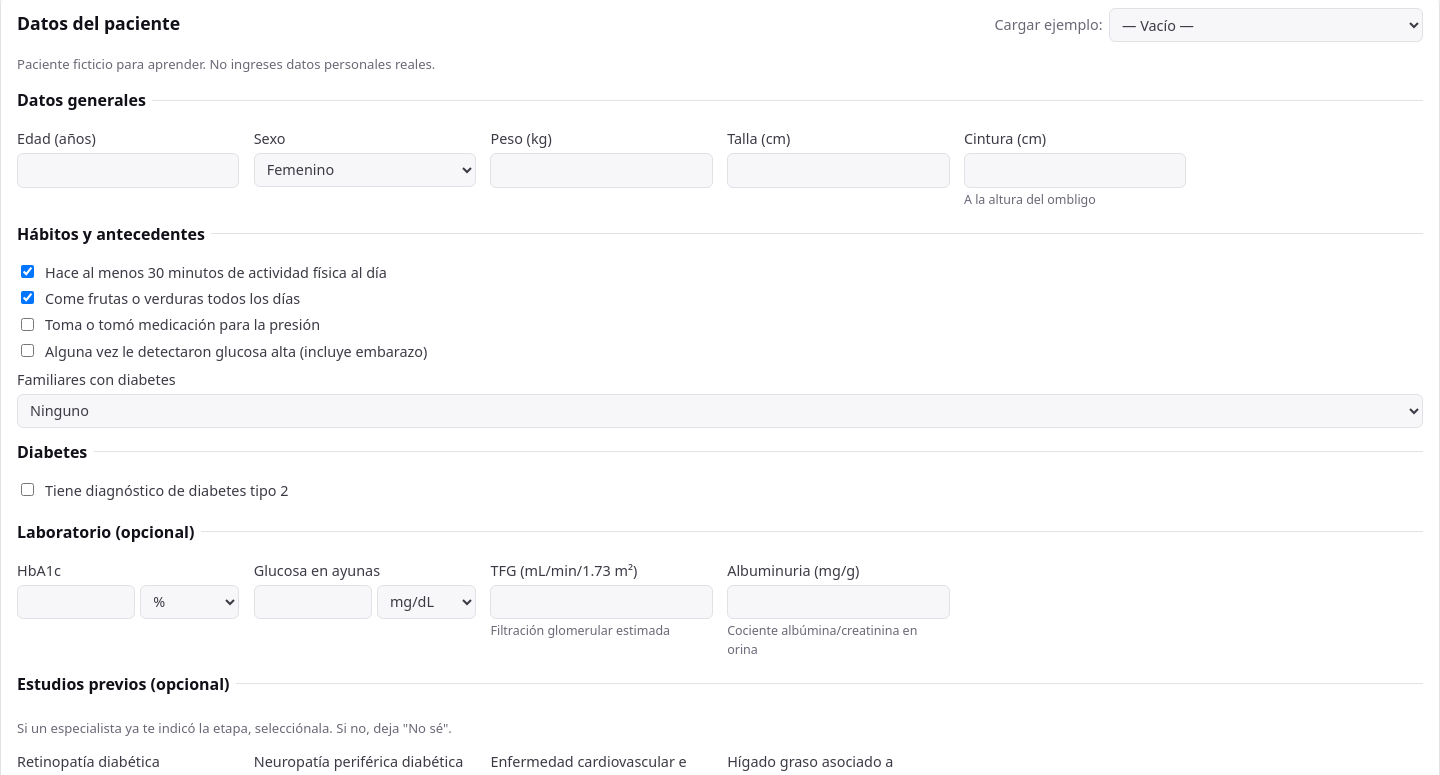
Test: formulario y resultados › F3-15: con diabetes no se muestra el FINDRISC
Type "50" into the field labelled "Edad (años)".
click(128, 170); type("50")  # box 17,153 -> 239,188
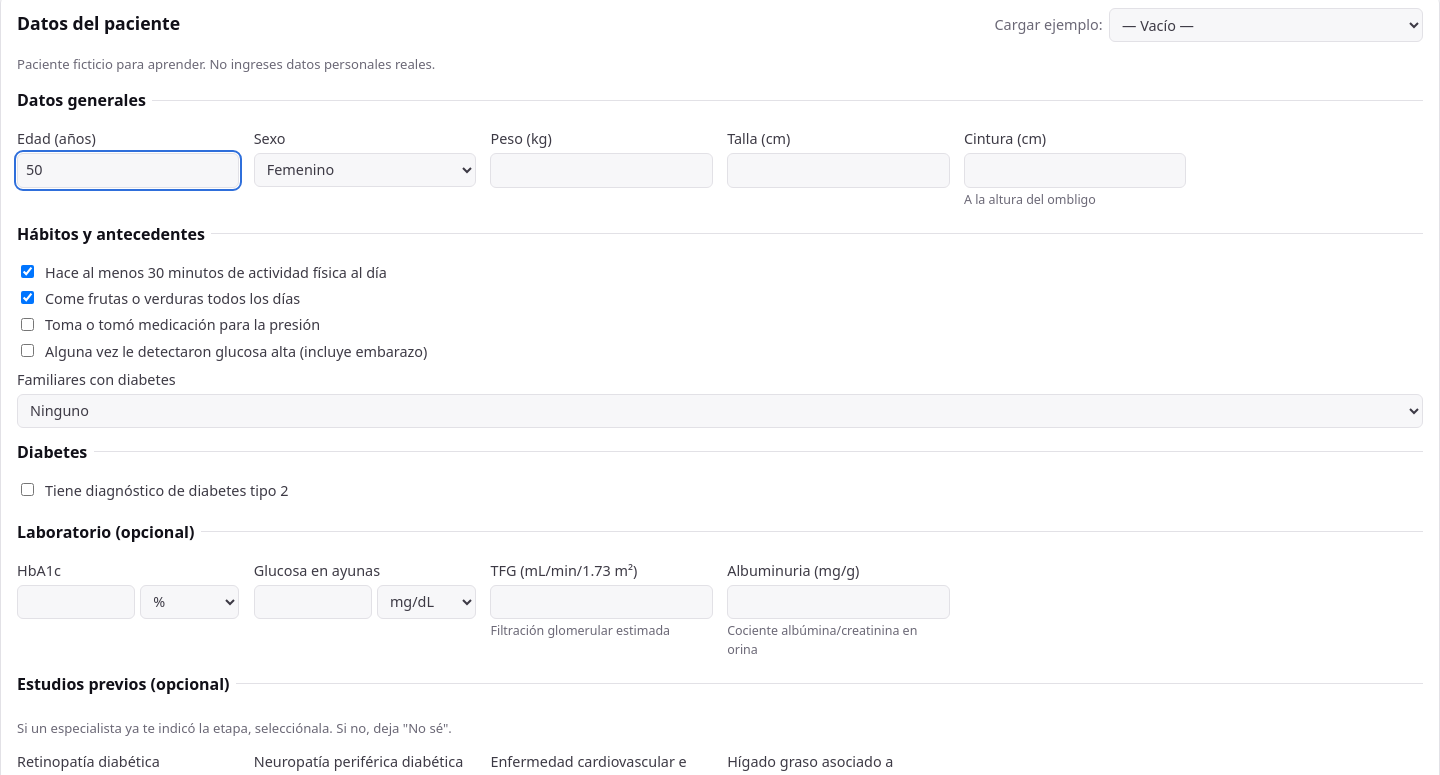
Type "70" into the field labelled "Peso (kg)".
click(602, 170); type("70")  # box 490,153 -> 713,188
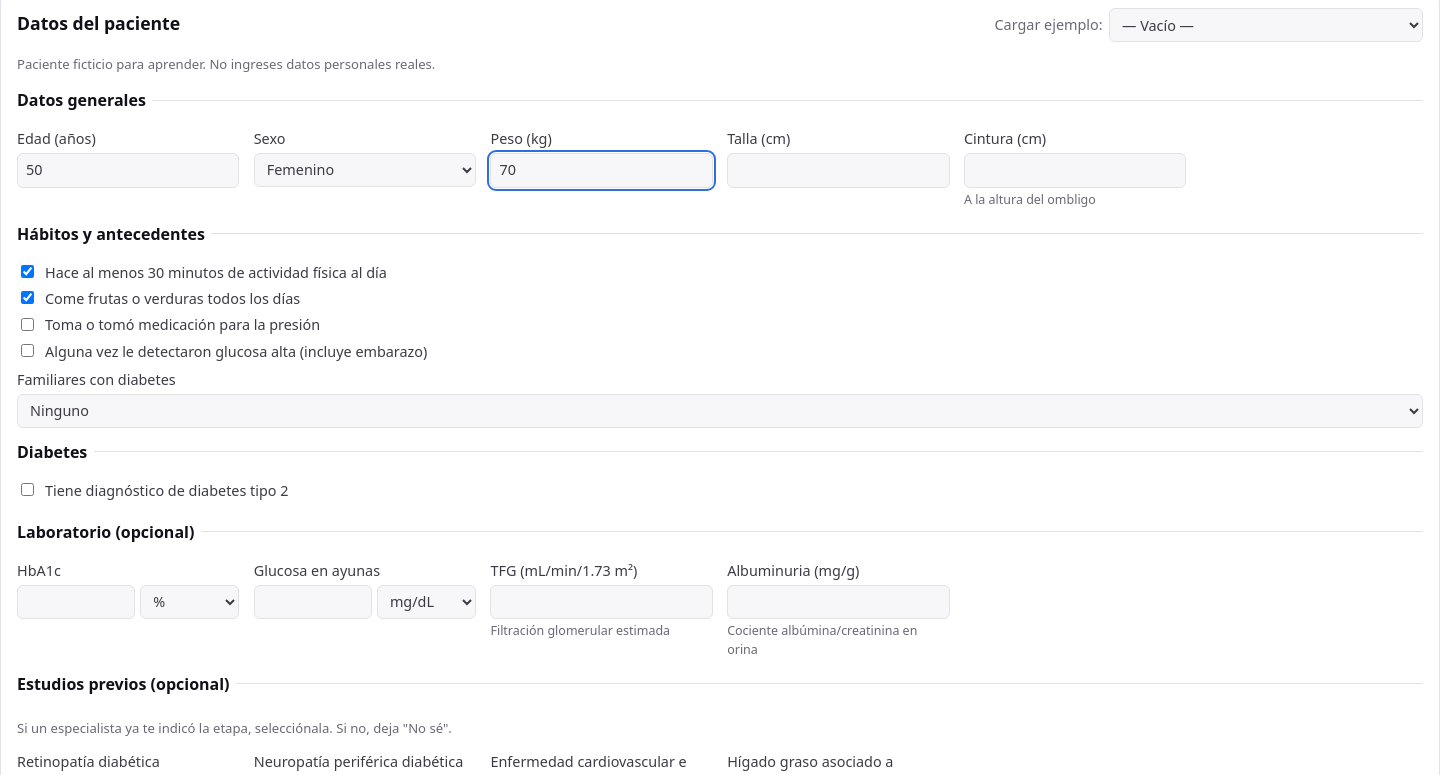
Type "170" into the field labelled "Talla (cm)".
click(838, 170); type("170")  # box 727,153 -> 950,188
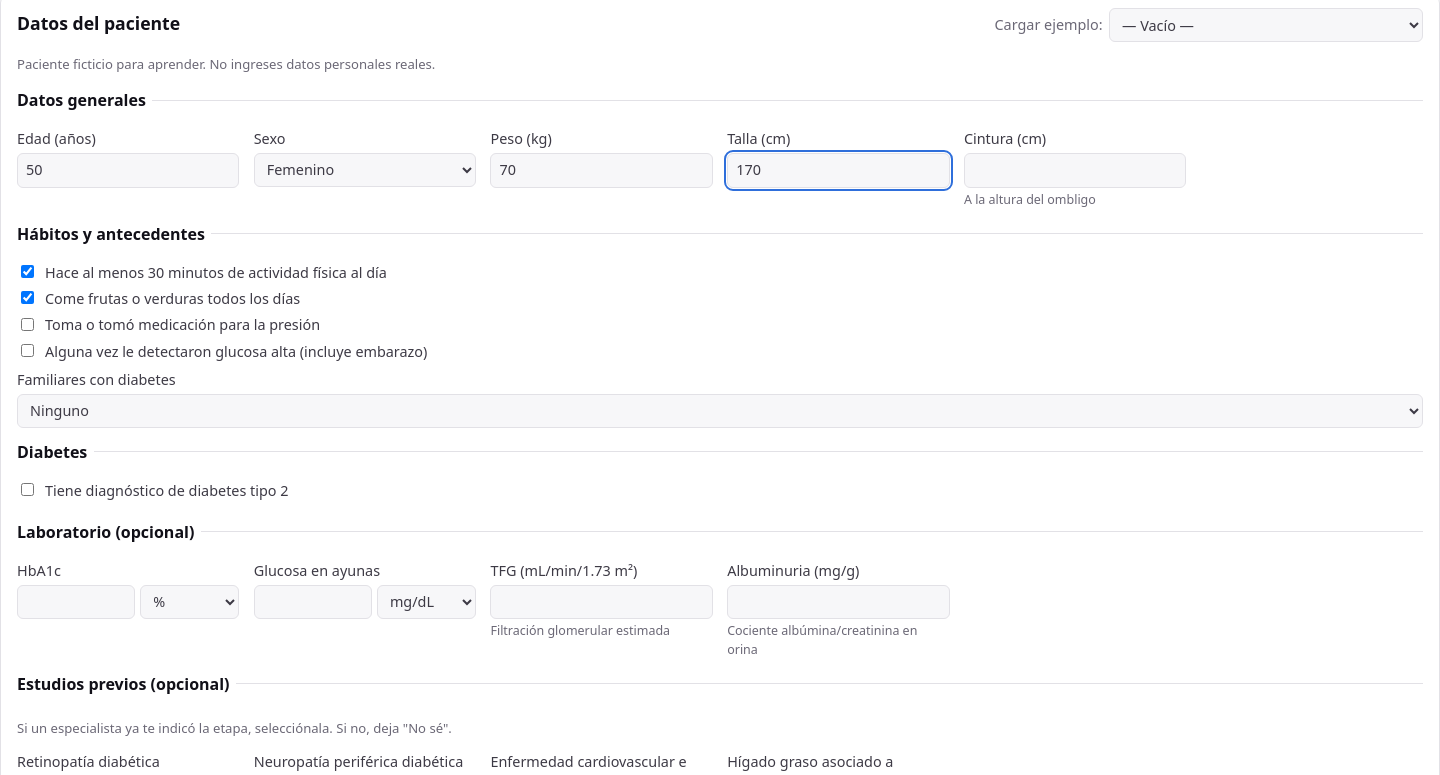
Type "78" into the field labelled "Cintura (cm)".
click(1075, 170); type("78")  # box 964,153 -> 1186,188
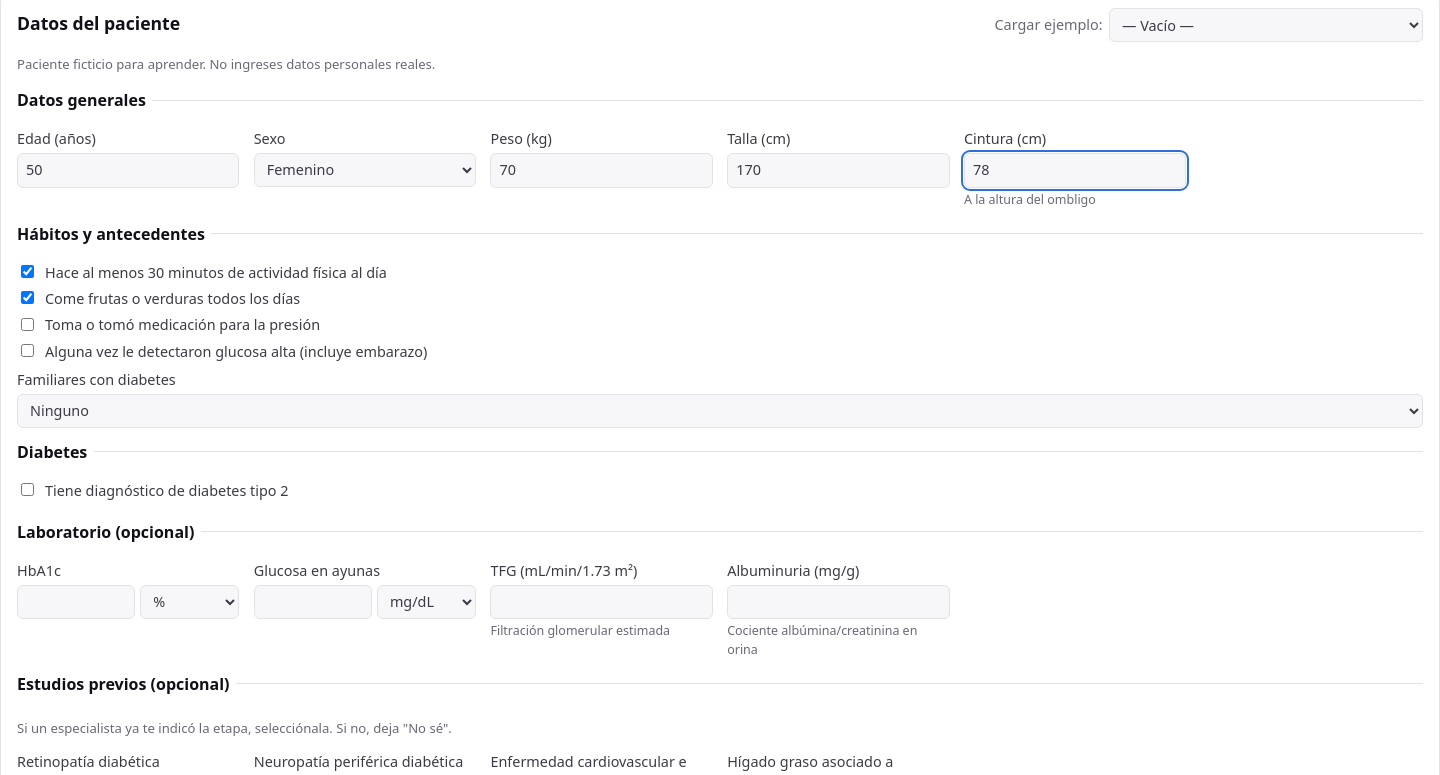
Click the checkbox labelled "Tiene diagnóstico de diabetes tipo 2".
click(28, 489)  # box 21,483 -> 34,496
(page scrolled)
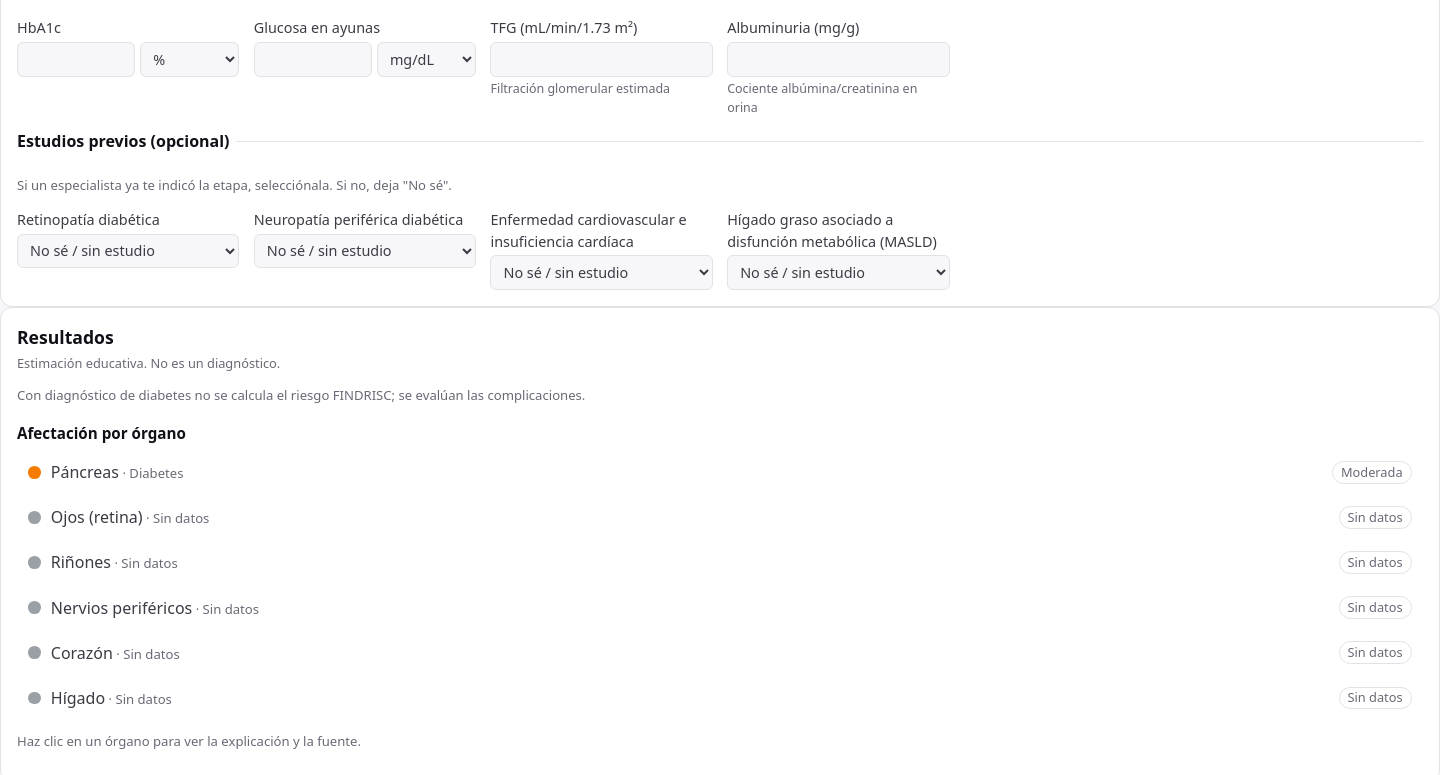
Expected: the text "no se calcula el riesgo FINDRISC" is shown, 17,386 -> 585,404
